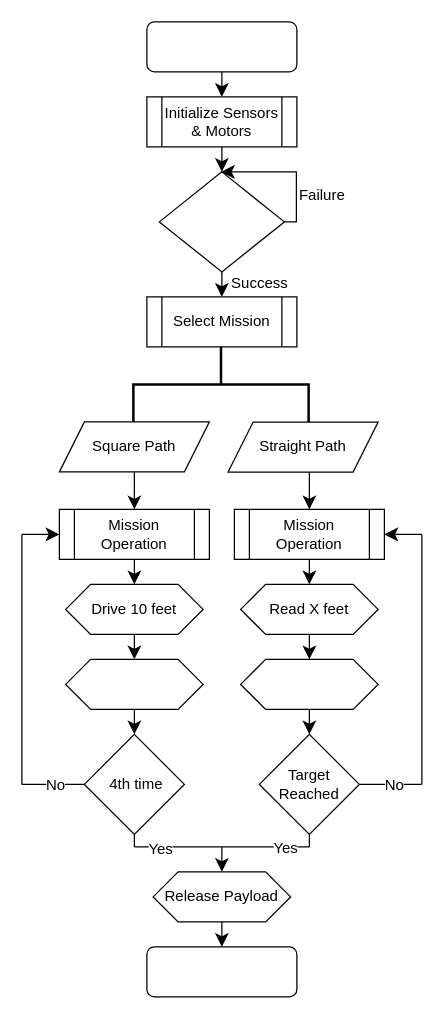
The diagram is 445 pixels wide and 1019 high, and some of its shapes have lost their labels. The centre of each missing label's shape, as x and y in pixels:
"Drive X feet" goes at (308,683).
"Program End" goes at (221,971).
"Program Start" goes at (221,46).
"Turn right 90 degrees" goes at (133,683).
"Verify RF" goes at (221,221).
